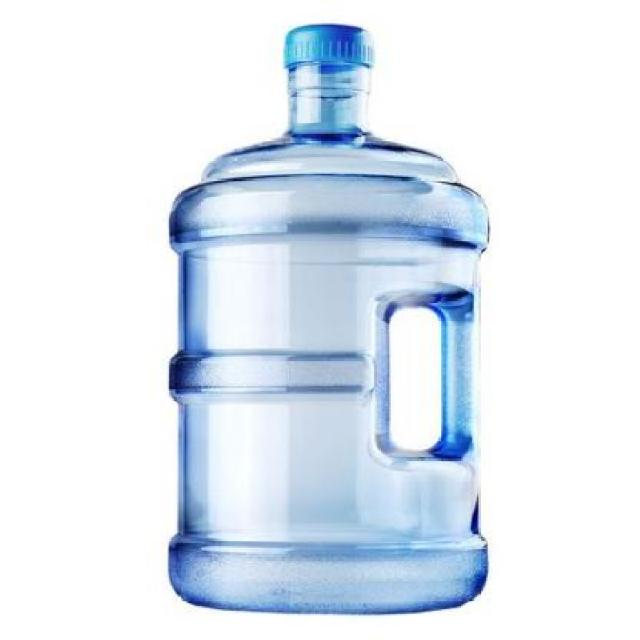coolerbottle: (164, 18, 493, 616)
